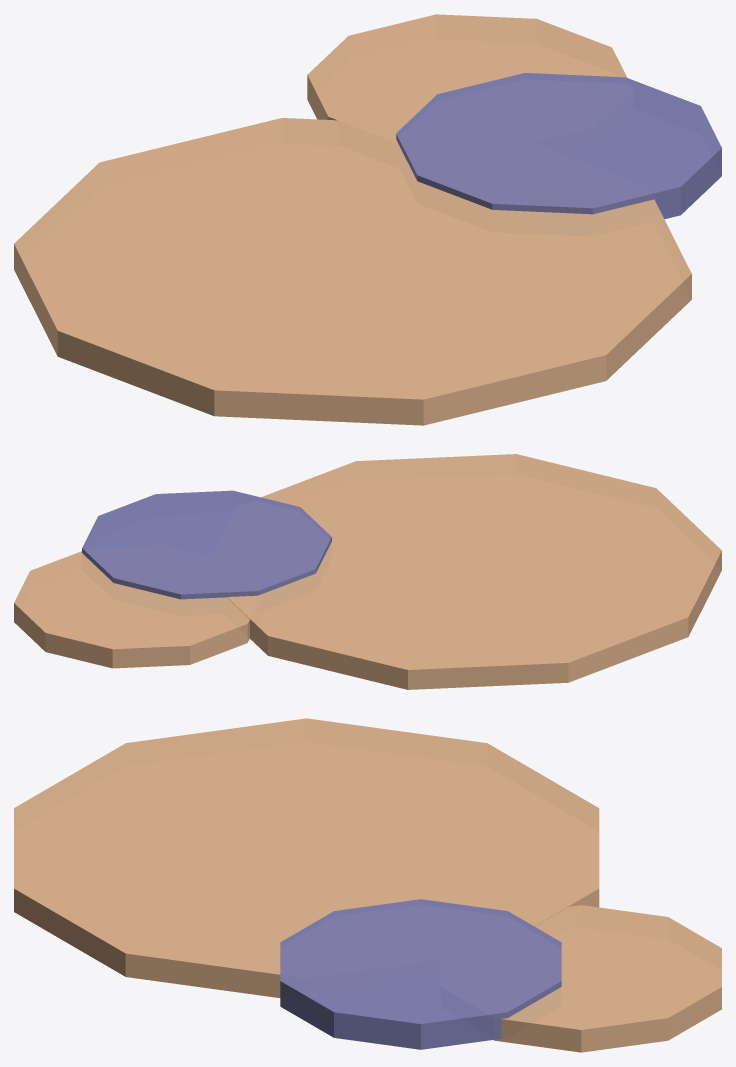
The model's file is Mess1.fbx.
The picture shows the model from 3 angles, top to bottom: view 1: azimuth 30°, elevation 25°; view 2: azimuth 150°, elevation 25°; view 3: azimuth 270°, elevation 25°; orthographic projection. The views are drawn at different scales.
Visible parts, largest first — view 1: group1_pasted__pCylinder1; view 2: group1_pasted__pCylinder1; view 3: group1_pasted__pCylinder1.
Part boxes in pixels (box(x1,y1,x2,y2)): group1_pasted__pCylinder1: box(14, 14, 721, 425); group1_pasted__pCylinder1: box(14, 454, 721, 689); group1_pasted__pCylinder1: box(14, 718, 721, 1052).
Bounding box in the file's own units: 26.12 × 1.13 × 25.11.
